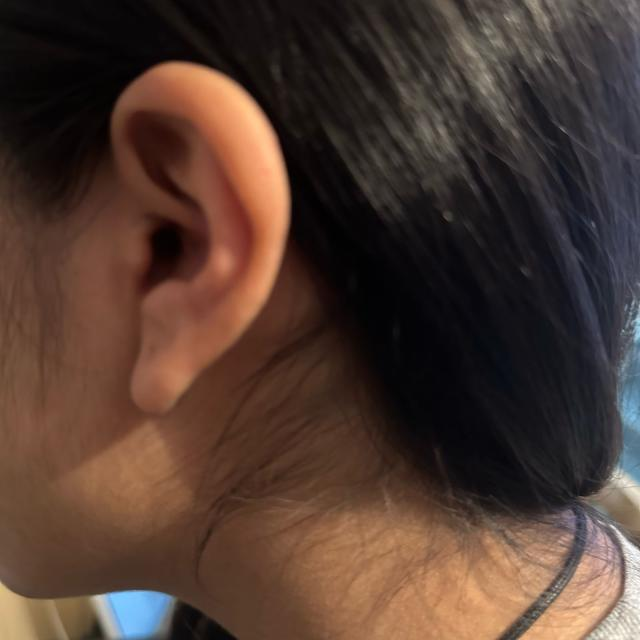ear: (110, 62, 285, 414)
